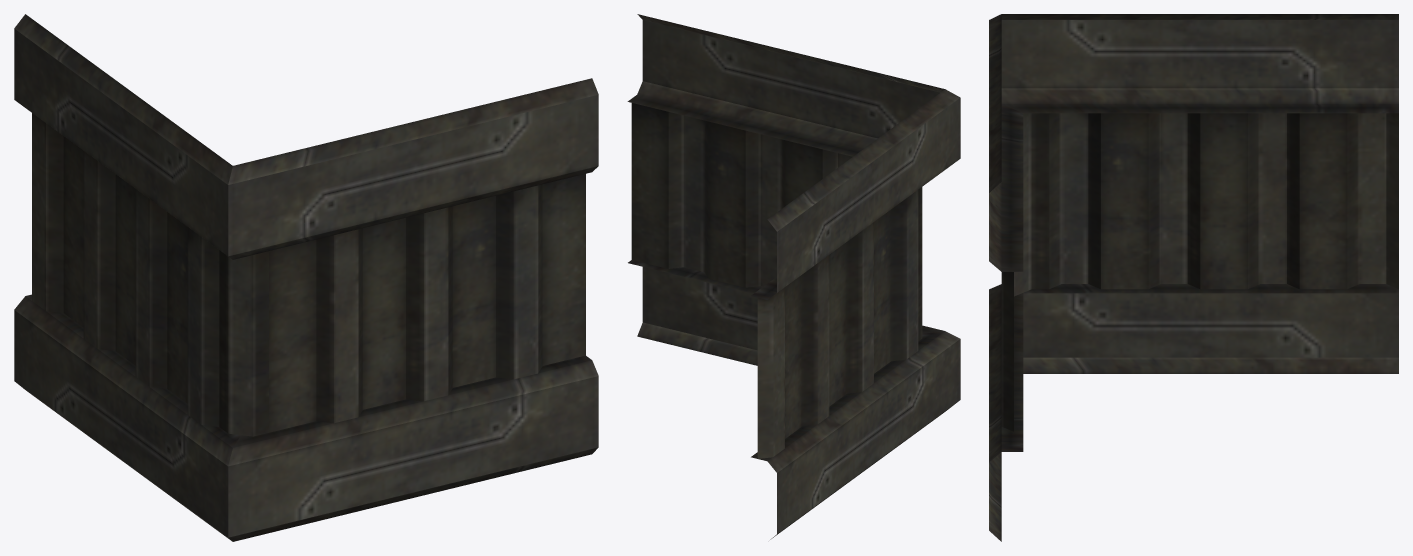
File: pplant_bulkhead_convex_short_extender.dae
3 views of the same model, side by side, from view 1: azimuth 30°, elevation 25°; view 2: azimuth 150°, elevation 25°; view 3: azimuth 270°, elevation 25° (orthographic). The views are drawn at different scales.
Visible parts, largest first — view 1: bulkhead_convex_short_extender; view 2: bulkhead_convex_short_extender; view 3: bulkhead_convex_short_extender.
Boxes of the visible parts, x1,y1,x2,y2 form: bulkhead_convex_short_extender: (14,14,598,541); bulkhead_convex_short_extender: (627,14,960,539); bulkhead_convex_short_extender: (989,14,1398,541).
Bounding box in the file's own units: 2.06 × 2 × 2.06.
